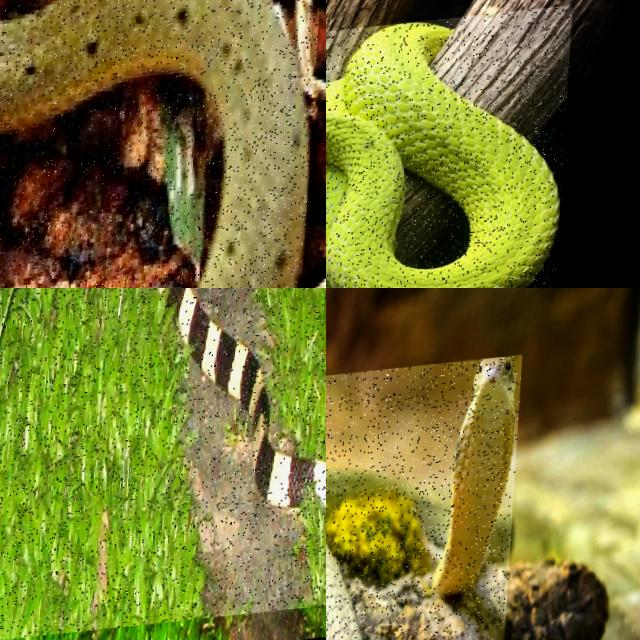Bungarus candidus: (163, 288, 325, 507)
Calliophis maculiceps: (0, 0, 308, 287)
Ophiophagus hannah: (434, 357, 515, 595)
Trimeresurus: (326, 22, 559, 287)
